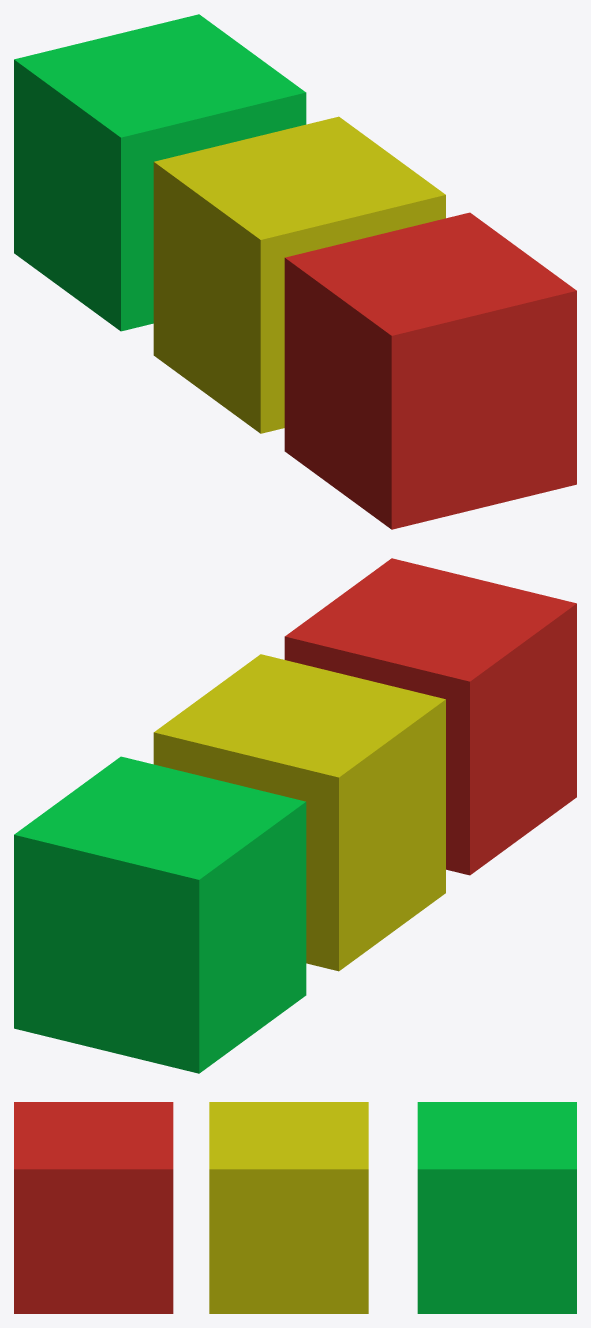
The picture shows the model from 3 angles, top to bottom: view 1: azimuth 30°, elevation 25°; view 2: azimuth 150°, elevation 25°; view 3: azimuth 270°, elevation 25°; orthographic projection. The views are drawn at different scales.
Parts seen in each view (by area): view 1: c, b, a; view 2: b, a, c; view 3: b, c, a.
Part boxes in pixels (left/top/right/bottom): c: left=284, top=212, right=576, bottom=529; b: left=14, top=14, right=306, bottom=331; a: left=153, top=116, right=445, bottom=433; b: left=14, top=756, right=306, bottom=1073; a: left=153, top=654, right=445, bottom=971; c: left=284, top=558, right=576, bottom=875; b: left=417, top=1102, right=576, bottom=1313; c: left=14, top=1102, right=173, bottom=1313; a: left=209, top=1102, right=368, bottom=1313.
Bounding box in the file's own units: 200 × 200 × 707.
